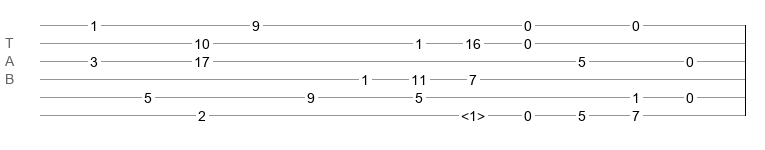0: (524, 36, 532, 46), (524, 108, 532, 118), (524, 18, 532, 28), (632, 18, 640, 28), (686, 90, 694, 100), (686, 54, 694, 64)
1: (90, 18, 98, 28), (361, 72, 369, 82), (415, 36, 423, 46), (632, 90, 640, 100)
10: (194, 36, 210, 46)
11: (411, 72, 427, 82)
16: (465, 36, 481, 46)
17: (194, 54, 210, 64)
2: (198, 108, 206, 118)
3: (90, 54, 98, 64)
5: (144, 90, 152, 100), (415, 90, 423, 100), (578, 54, 586, 64), (578, 108, 586, 118)
7: (469, 72, 477, 82), (632, 108, 640, 118)
9: (252, 18, 260, 28), (307, 90, 315, 100)
harmonic: (461, 108, 485, 118)
